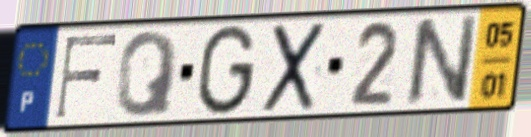2: (349, 19, 402, 108)
F: (52, 32, 121, 122)
G: (193, 22, 260, 119)
N: (403, 12, 481, 110)
Q: (113, 28, 182, 120)
X: (259, 19, 330, 117)
